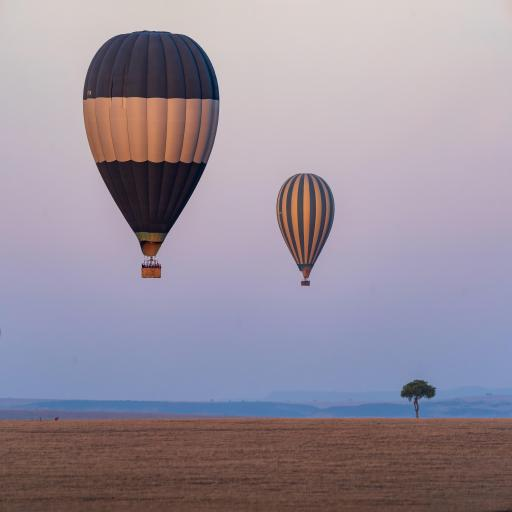hot air ballon: (84, 33, 219, 278), (277, 173, 334, 286)
